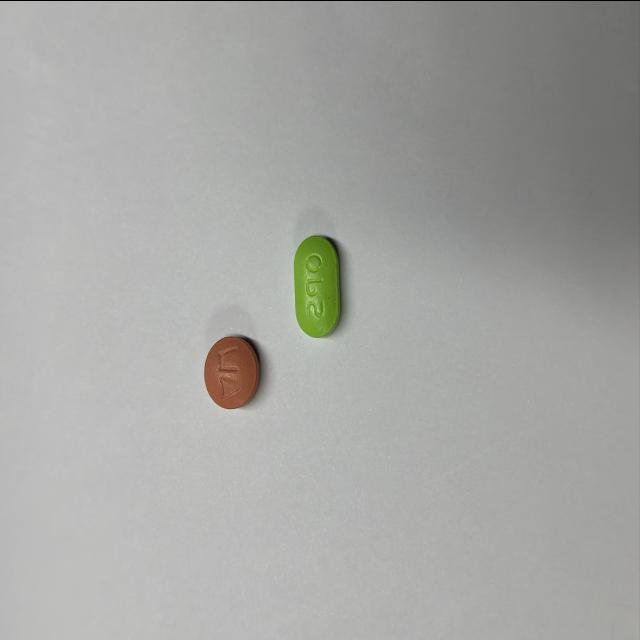Piller: (294, 235, 340, 337), (205, 335, 260, 408)
